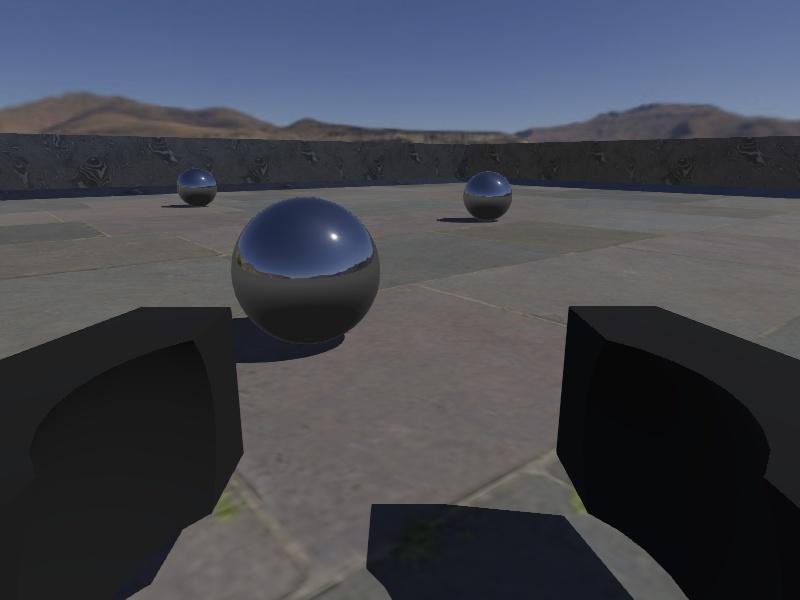steel ball: (229, 198, 381, 344), (462, 172, 512, 222), (176, 167, 218, 208)
